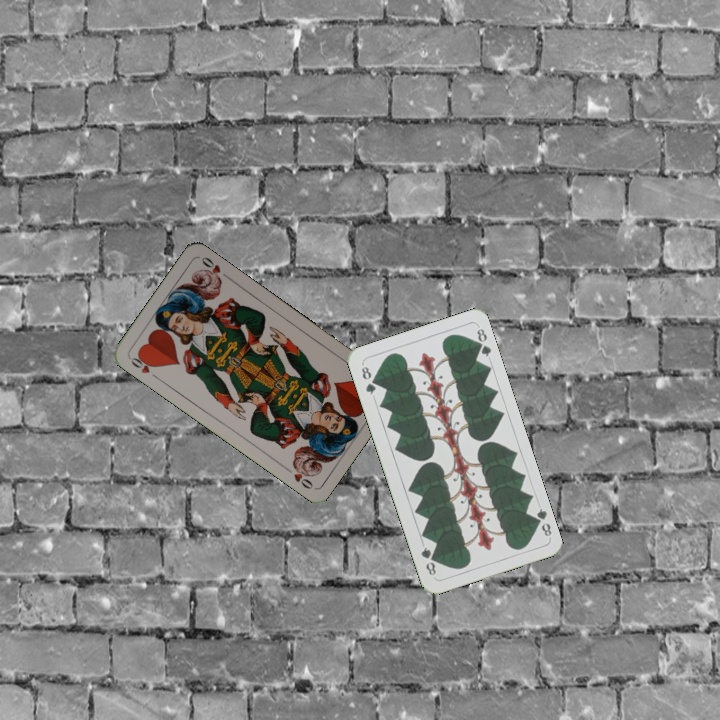G8: (529, 504, 554, 539), (357, 362, 379, 397)
HO: (126, 350, 161, 382)
